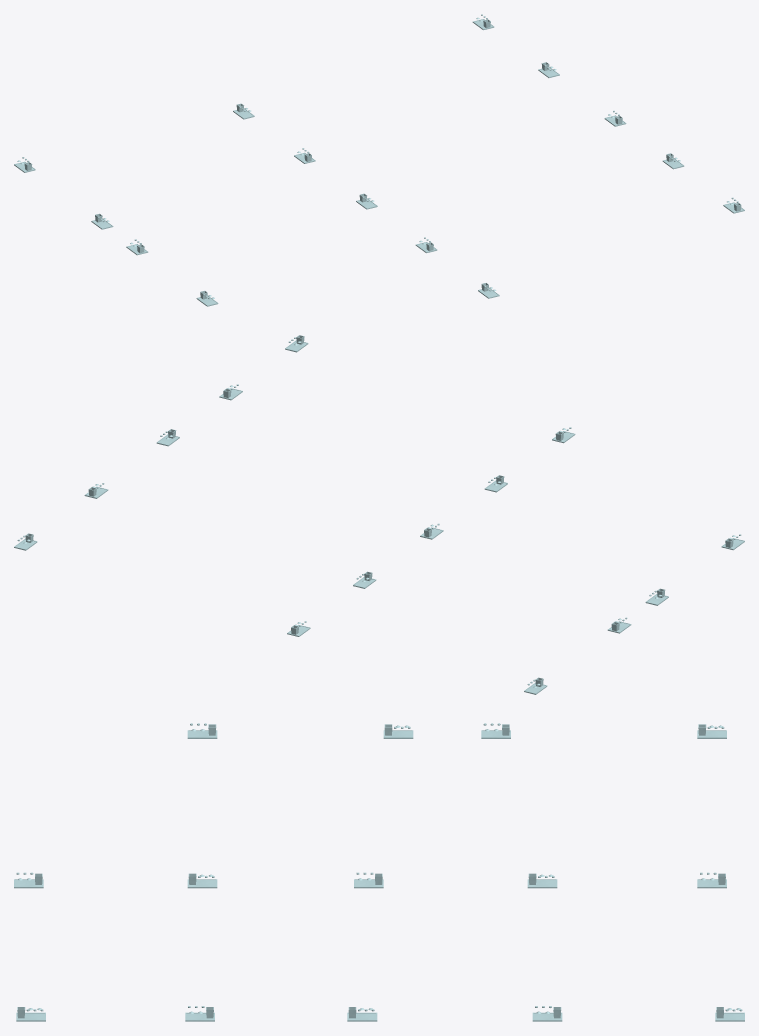
File: resto_ni_teo_15.obj
3 views of the same model, one above another, from view 1: azimuth 30°, elevation 25°; view 2: azimuth 150°, elevation 25°; view 3: azimuth 270°, elevation 25° (orthographic). The views are drawn at different scales.
Bounding box in the file's own units: 9.71 × 0.6141 × 9.25.
